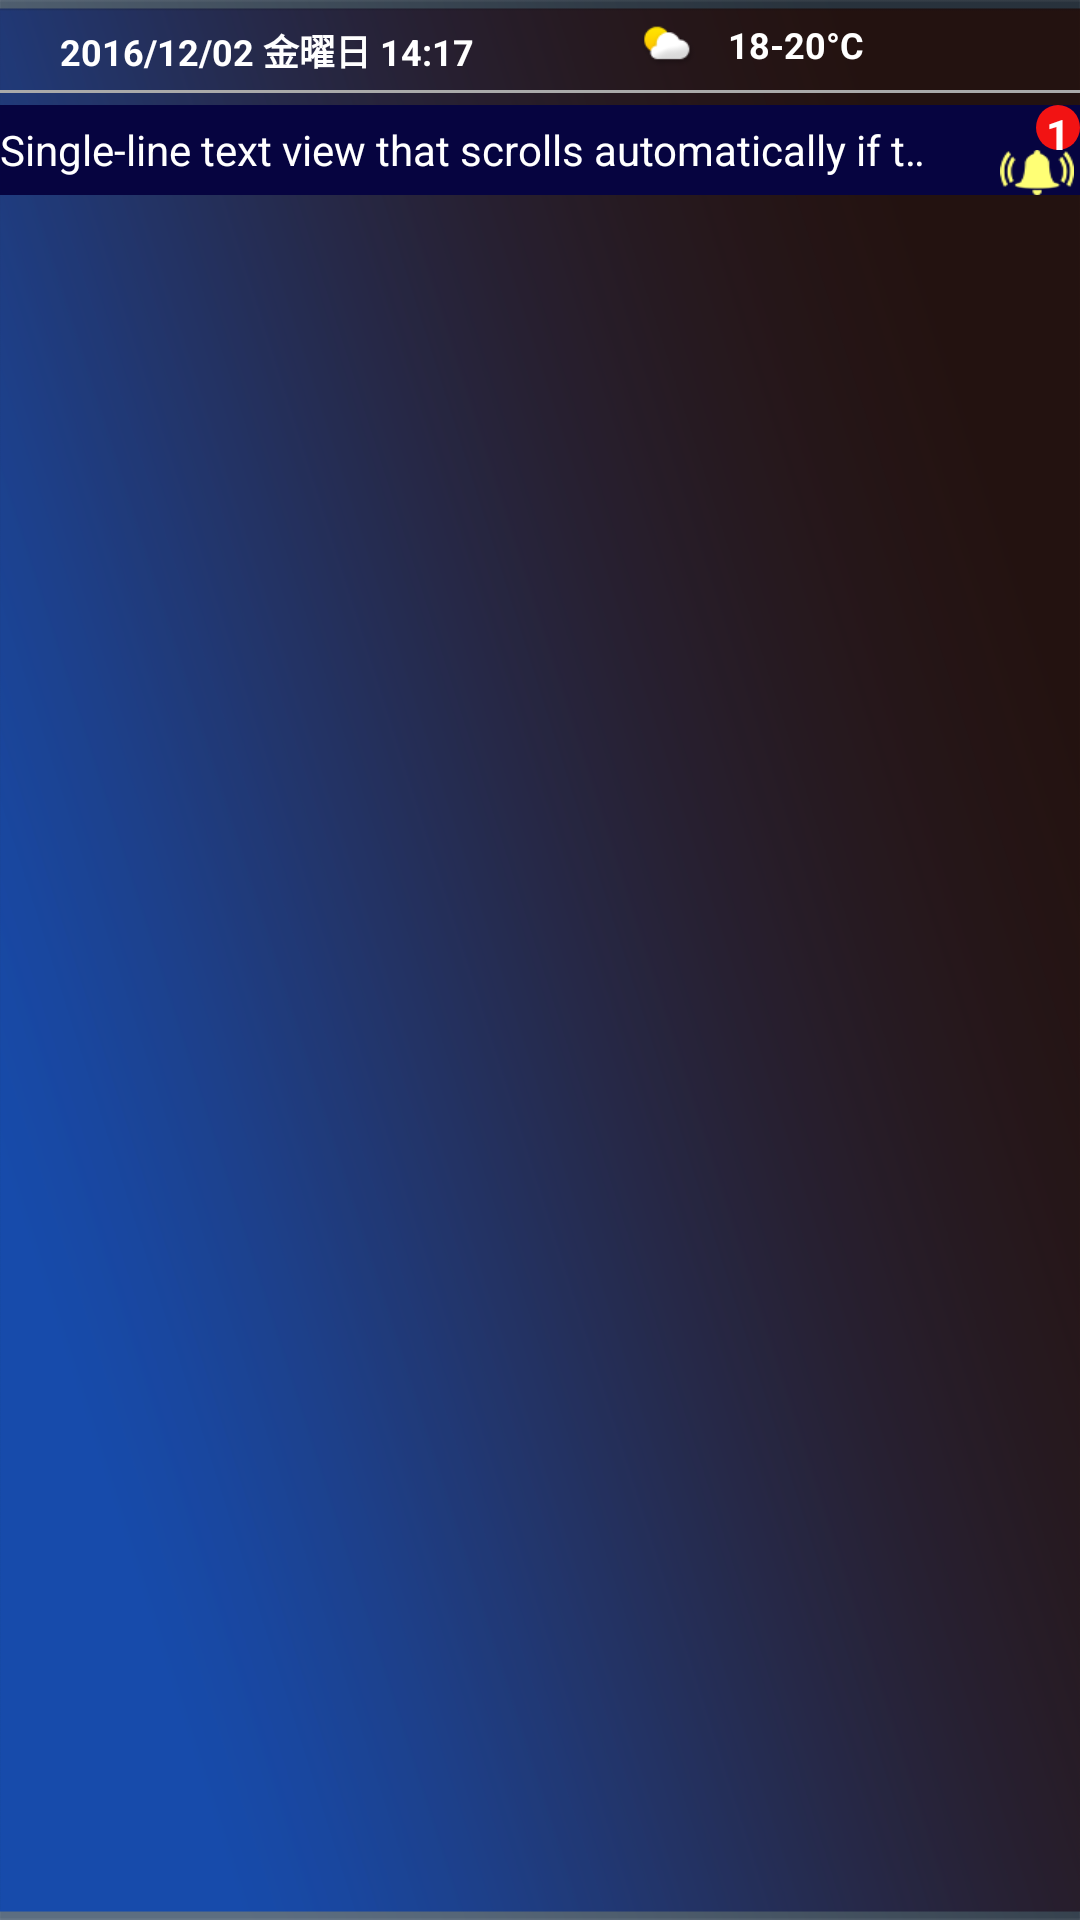

Icon click points for this 1080w x 1920h phone screenshot, format [x,y]:
notification: [1037,172]
weather: [667,43]
